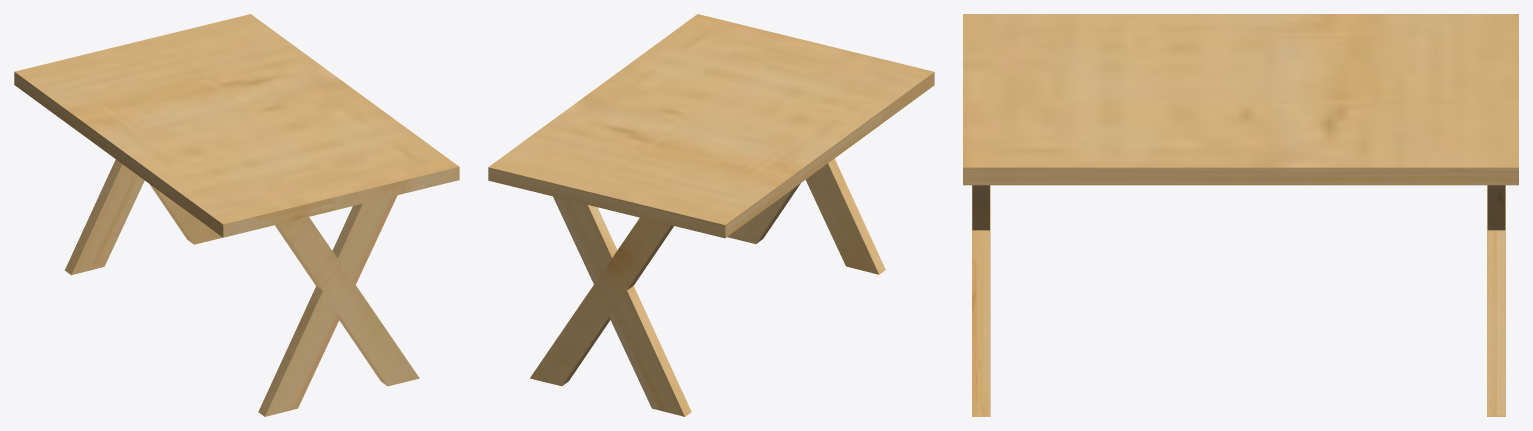
The model's file is bench.dae.
3 views of the same model, side by side, from view 1: azimuth 30°, elevation 25°; view 2: azimuth 150°, elevation 25°; view 3: azimuth 270°, elevation 25° (orthographic). The views are drawn at different scales.
Visible parts, largest first — view 1: Cube; view 2: Cube; view 3: Cube.
Boxes of the visible parts, <box> form: Cube: <box>14,14,459,416</box>; Cube: <box>488,14,934,416</box>; Cube: <box>963,14,1518,416</box>.
Bounding box in the file's own units: 0.3064 × 0.4688 × 0.2552.
1 material, 1 textured.
